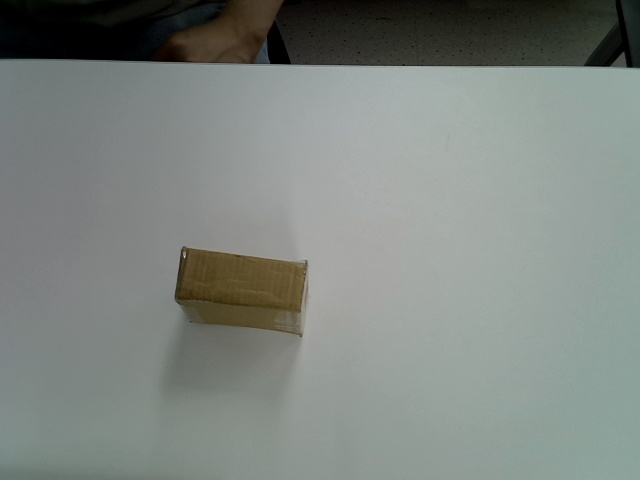normal: (175, 247, 308, 337)
